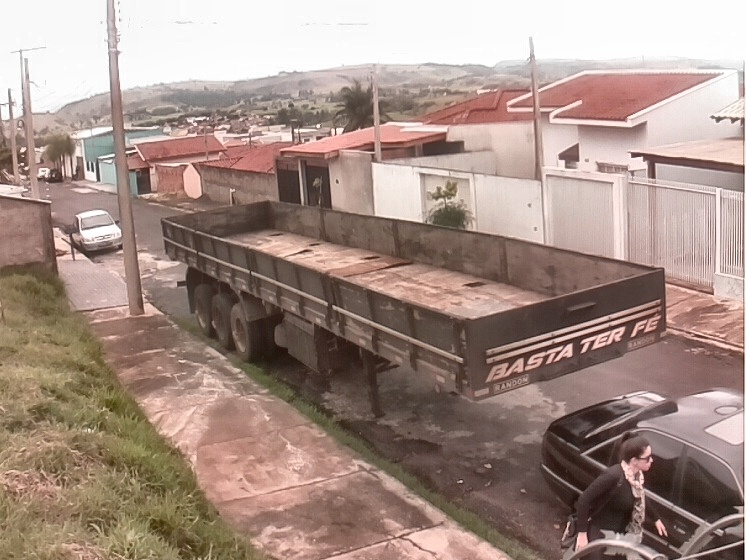person: (571, 431, 669, 560)
